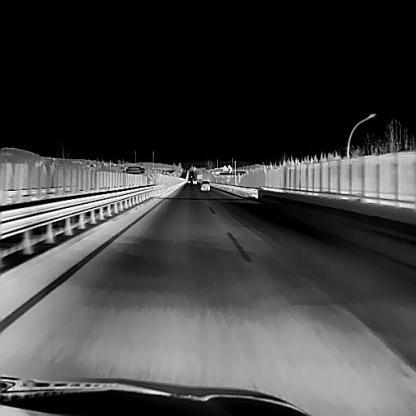car: (199, 180, 209, 190), (191, 176, 196, 184)
